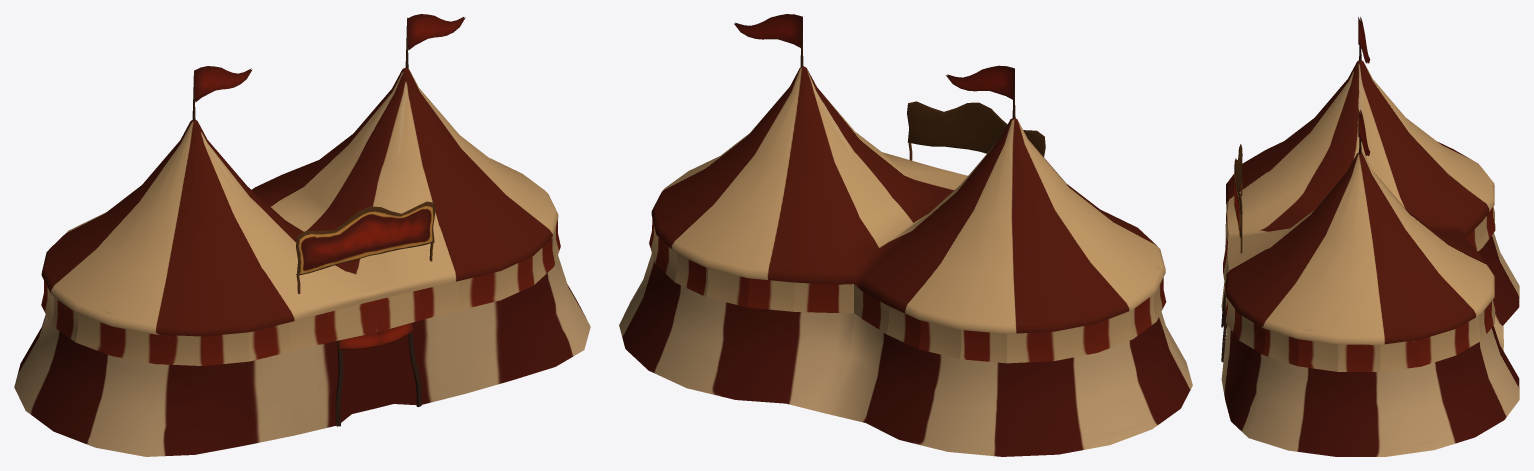
The model's file is Tent 1.fbx.
3 views of the same model, side by side, from view 1: azimuth 30°, elevation 25°; view 2: azimuth 150°, elevation 25°; view 3: azimuth 270°, elevation 25° (orthographic). The views are drawn at different scales.
Visible parts, largest first — view 1: Big_Tent3; view 2: Big_Tent3; view 3: Big_Tent3.
Part boxes in pixels (box(x1,y1,x2,y2)): Big_Tent3: box(14, 14, 590, 456); Big_Tent3: box(619, 14, 1192, 456); Big_Tent3: box(1221, 17, 1519, 456).
Size of the model in its own units: 108 by 62.5 by 59.62.
